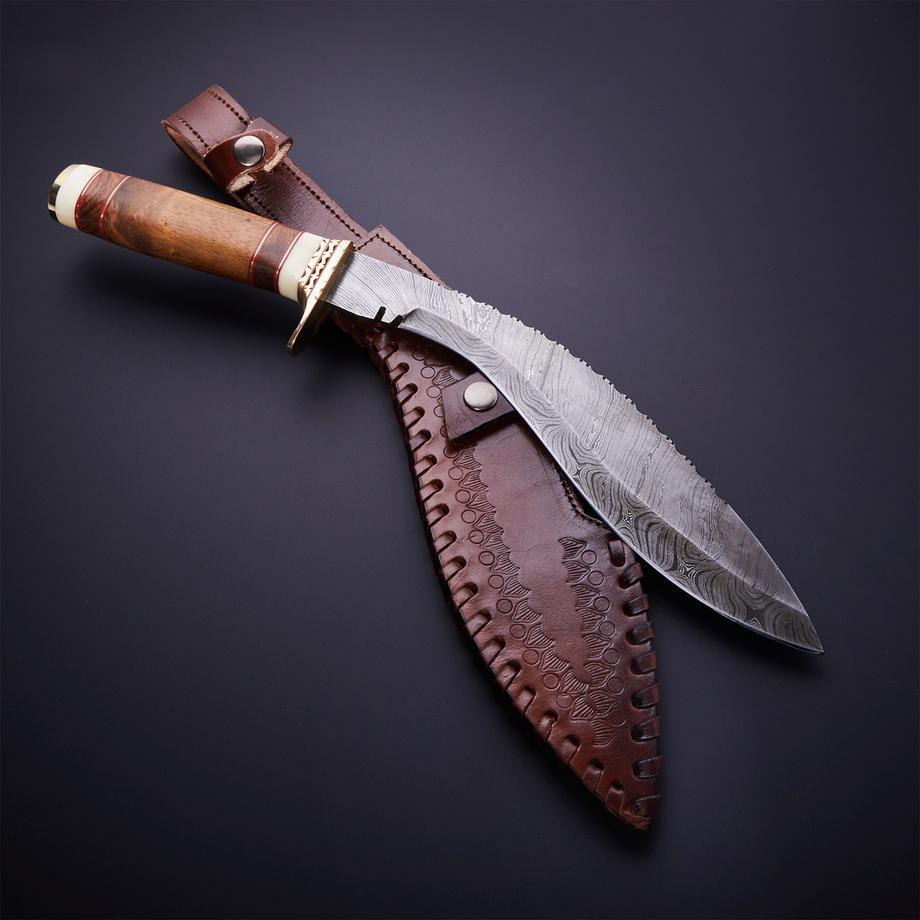facao: (49, 165, 821, 652)
